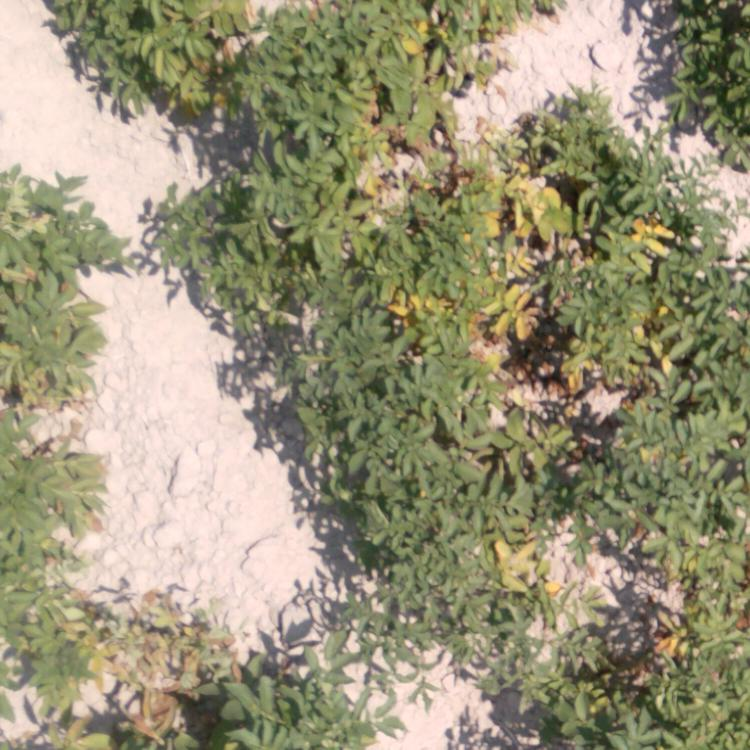healthy: (299, 411, 460, 614), (161, 163, 307, 313), (638, 4, 750, 160), (67, 1, 235, 102), (244, 623, 372, 750), (241, 3, 335, 156), (247, 317, 365, 406), (532, 95, 632, 153), (383, 624, 443, 703)
stressed: (380, 162, 735, 406), (1, 591, 236, 745), (485, 622, 748, 750), (596, 413, 749, 629), (340, 1, 528, 161), (1, 167, 107, 419), (468, 413, 560, 615), (5, 423, 115, 587), (331, 173, 374, 312)
